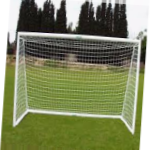goals: (12, 31, 142, 135)
